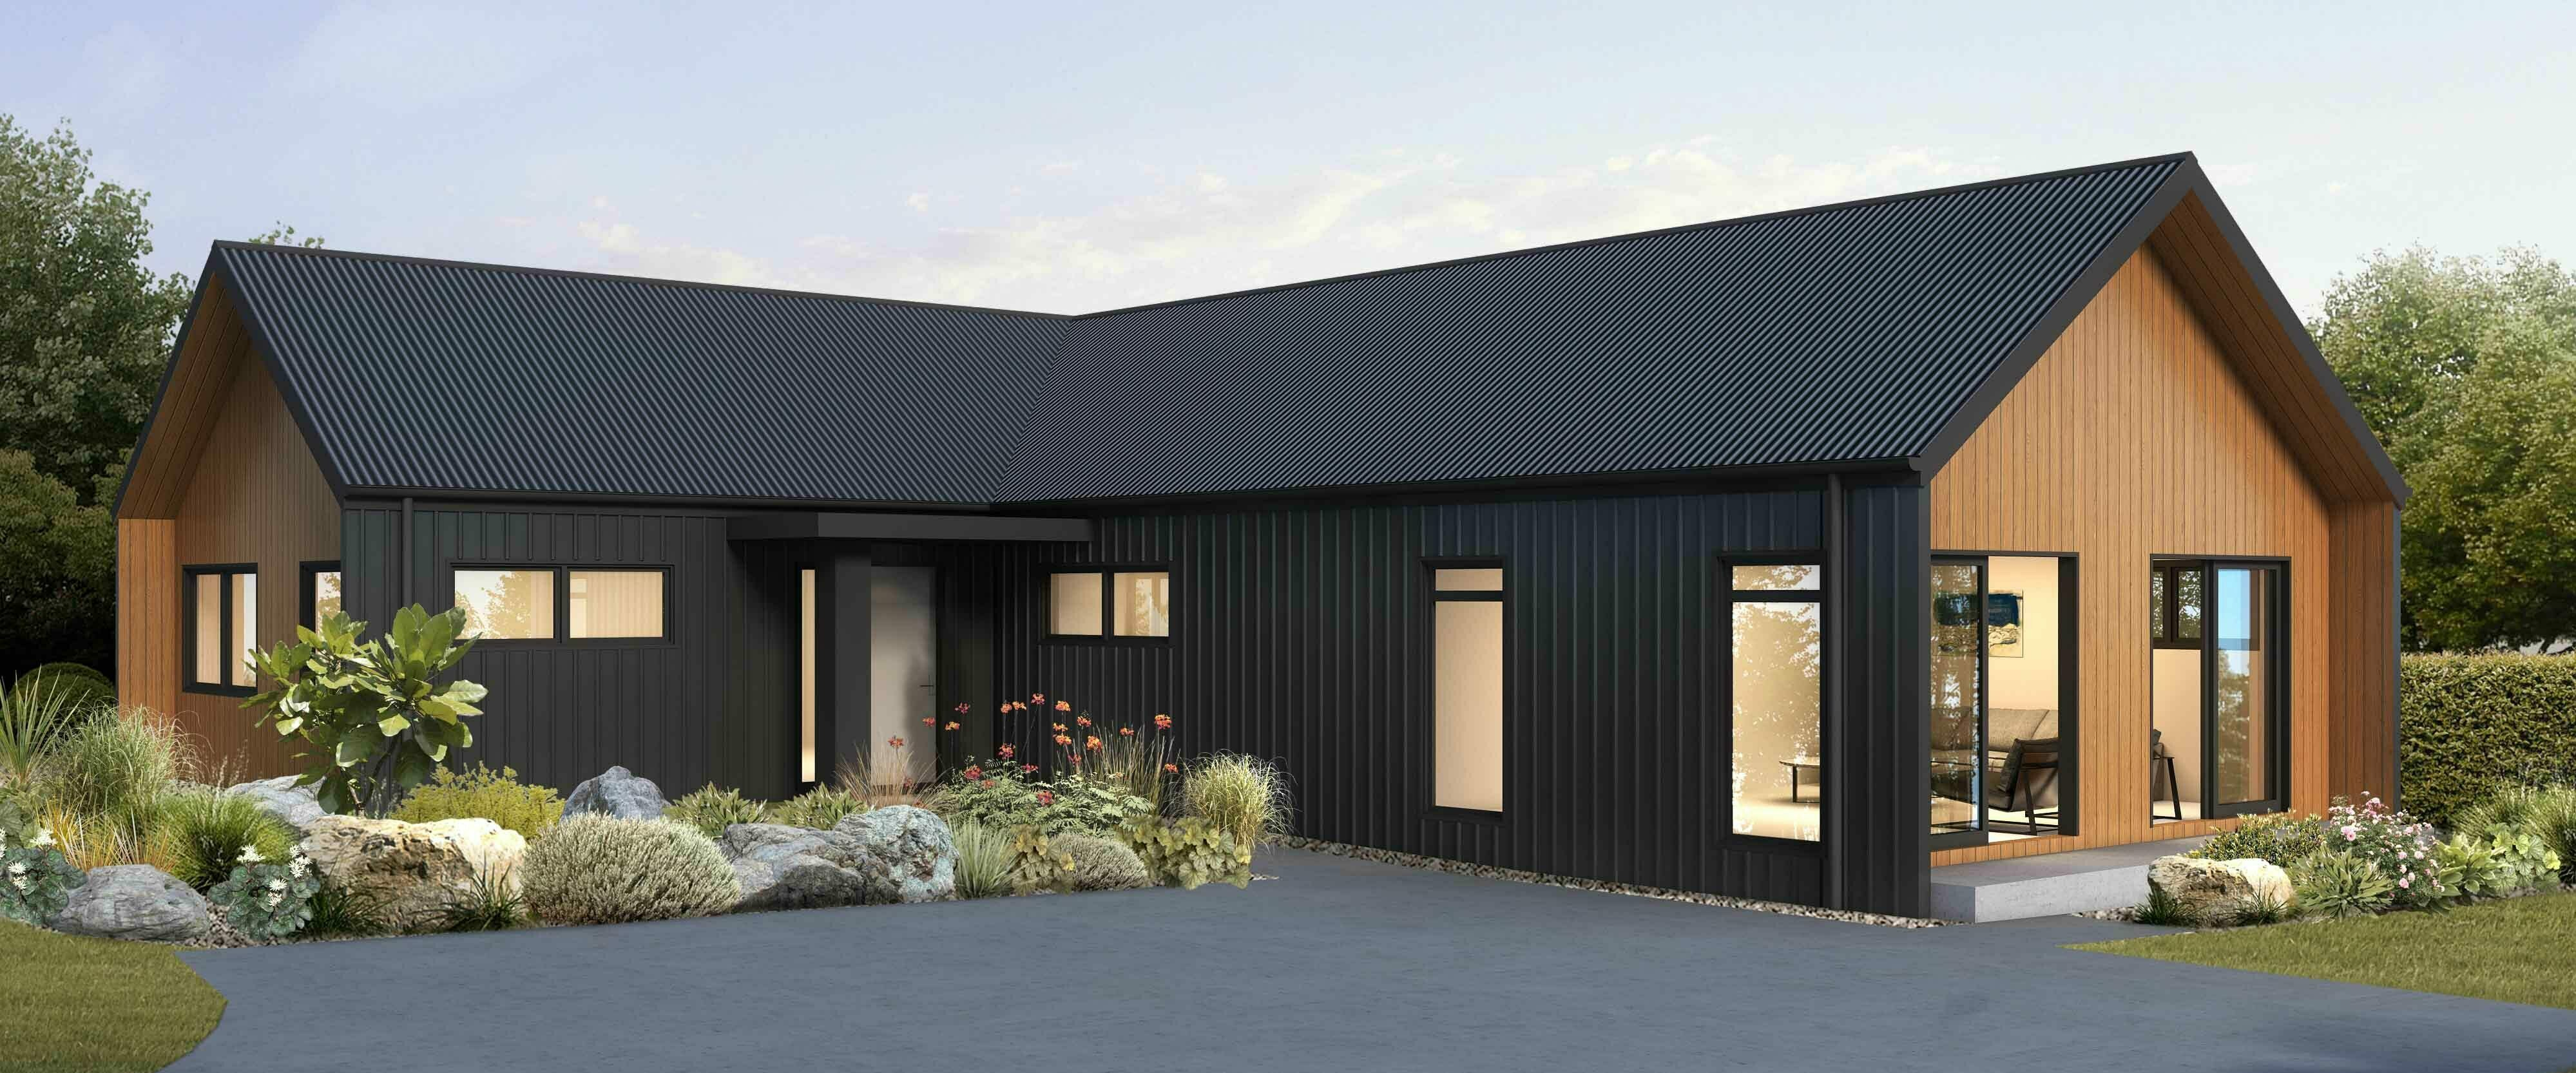Window: (1930, 555, 2083, 843), (2144, 557, 2287, 825), (1720, 557, 1828, 850), (1423, 564, 1513, 817), (450, 567, 672, 641), (177, 565, 264, 697), (1037, 569, 1183, 644), (299, 564, 348, 619)
